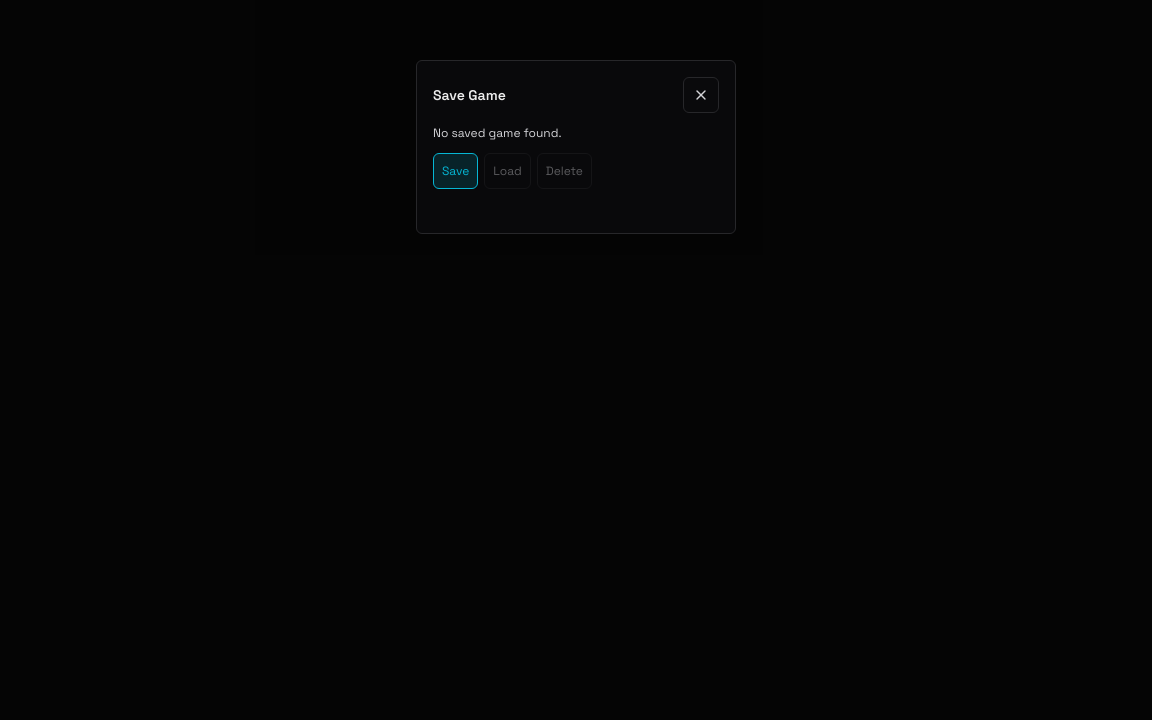
Test case: SaveMenu › catches a load that fails for a reason of its own, says so and keeps the run
The image size is (1152, 720).
Click the button "Save": [456, 171] box [433,153,478,189]
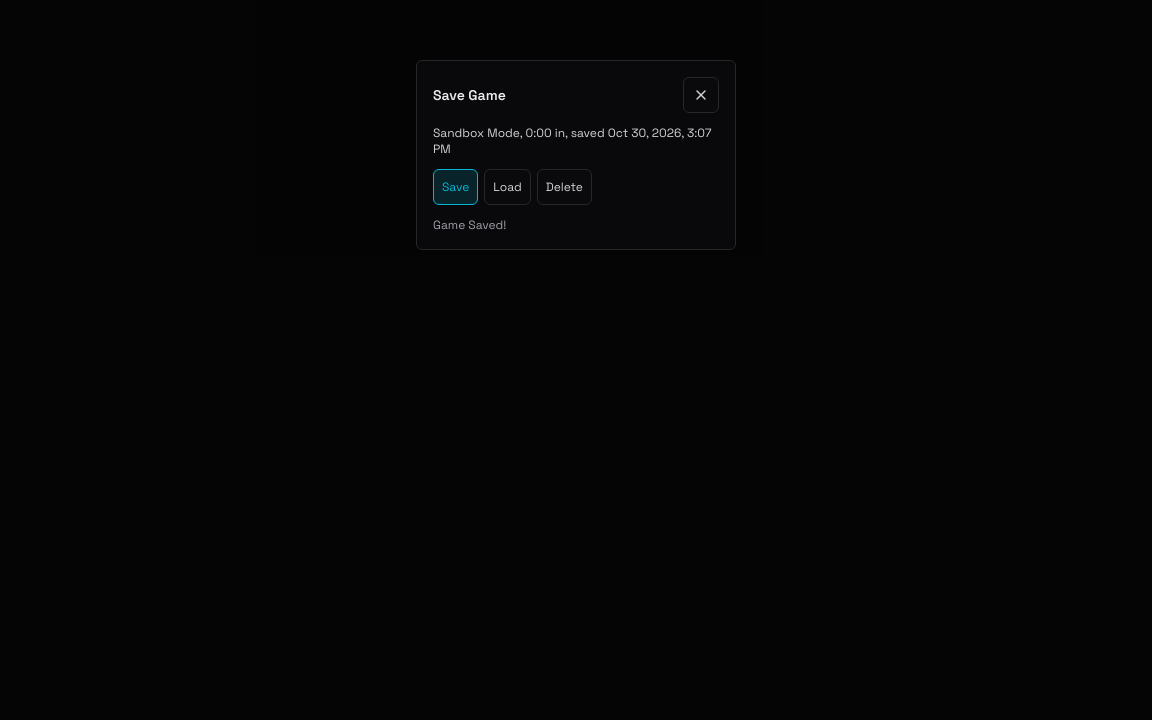
Click the button "Load": [508, 187] box [484,169,531,205]
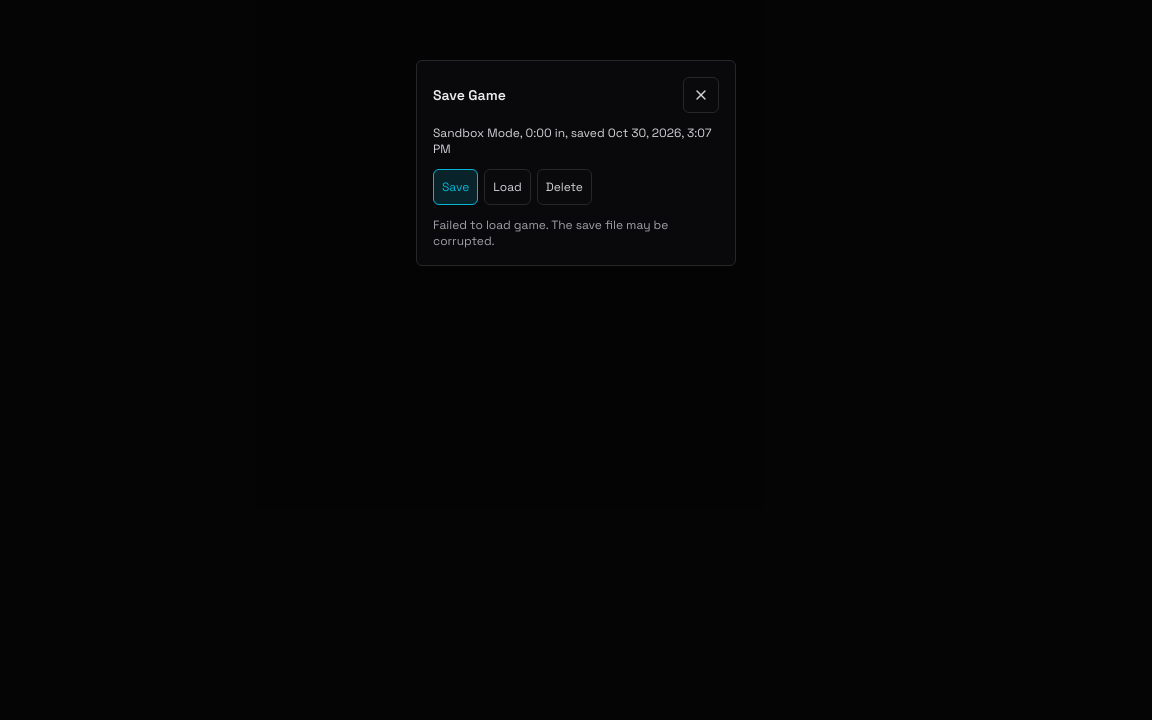
Check: the button "Load" is enabled, box [484,169,531,205]
Check: the message reads "Failed to load game. The save file may be corrupted.", box [433,217,668,249]
